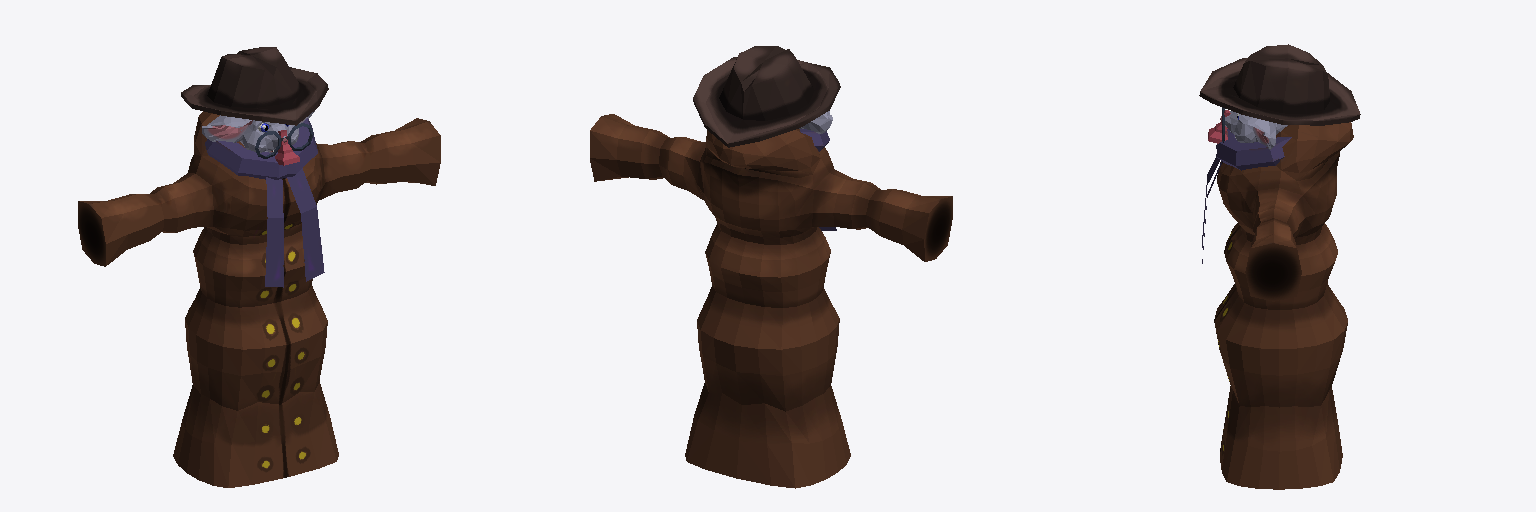
3 views of the same model, side by side, from view 1: azimuth 30°, elevation 25°; view 2: azimuth 150°, elevation 25°; view 3: azimuth 270°, elevation 25° (orthographic).
Visible parts, largest first — view 1: Cube.001_Cube, Cube_Cube.001; view 2: Cube.001_Cube; view 3: Cube.001_Cube, Cube_Cube.001.
Boxes of the visible parts, box(x1,y1,x2,y2) form: Cube.001_Cube: box(78, 47, 440, 487); Cube_Cube.001: box(202, 111, 314, 152); Cube.001_Cube: box(590, 46, 952, 488); Cube.001_Cube: box(1199, 44, 1360, 489); Cube_Cube.001: box(1220, 111, 1287, 149).
Size of the model in its own units: 14.04 by 15.75 by 5.77.
2 materials, 2 textured.